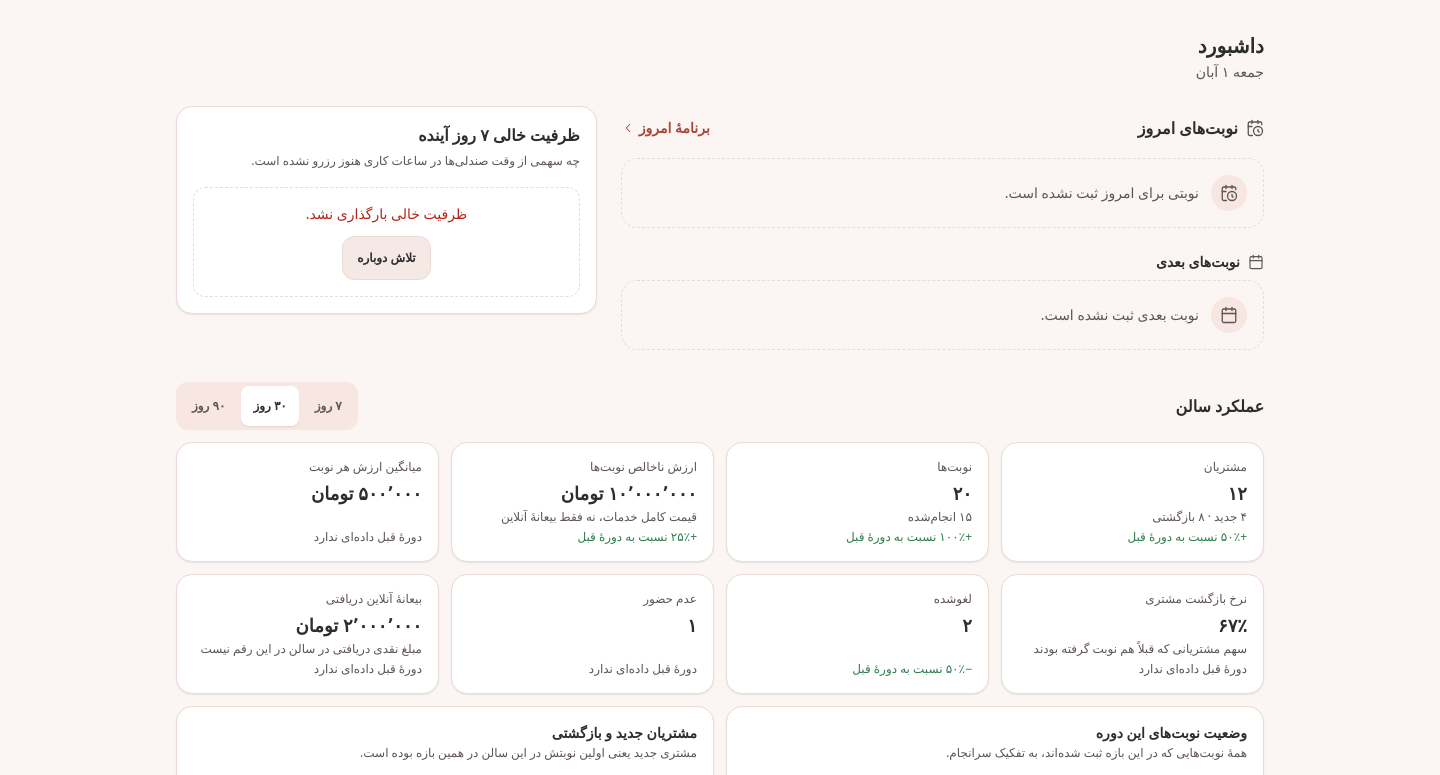
Test: DashboardView › keeps the rest of the dashboard working when capacity fails, and retries only capacity
The image size is (1440, 775).
Expected: the element with test id "metric-bookings" is shown, [726,442,989,562]
What coordinates should you click on to do the following:
click the button with test id "retry-capacity"
I would click on:
 (386, 258)
Its box is [342,236,431,280].
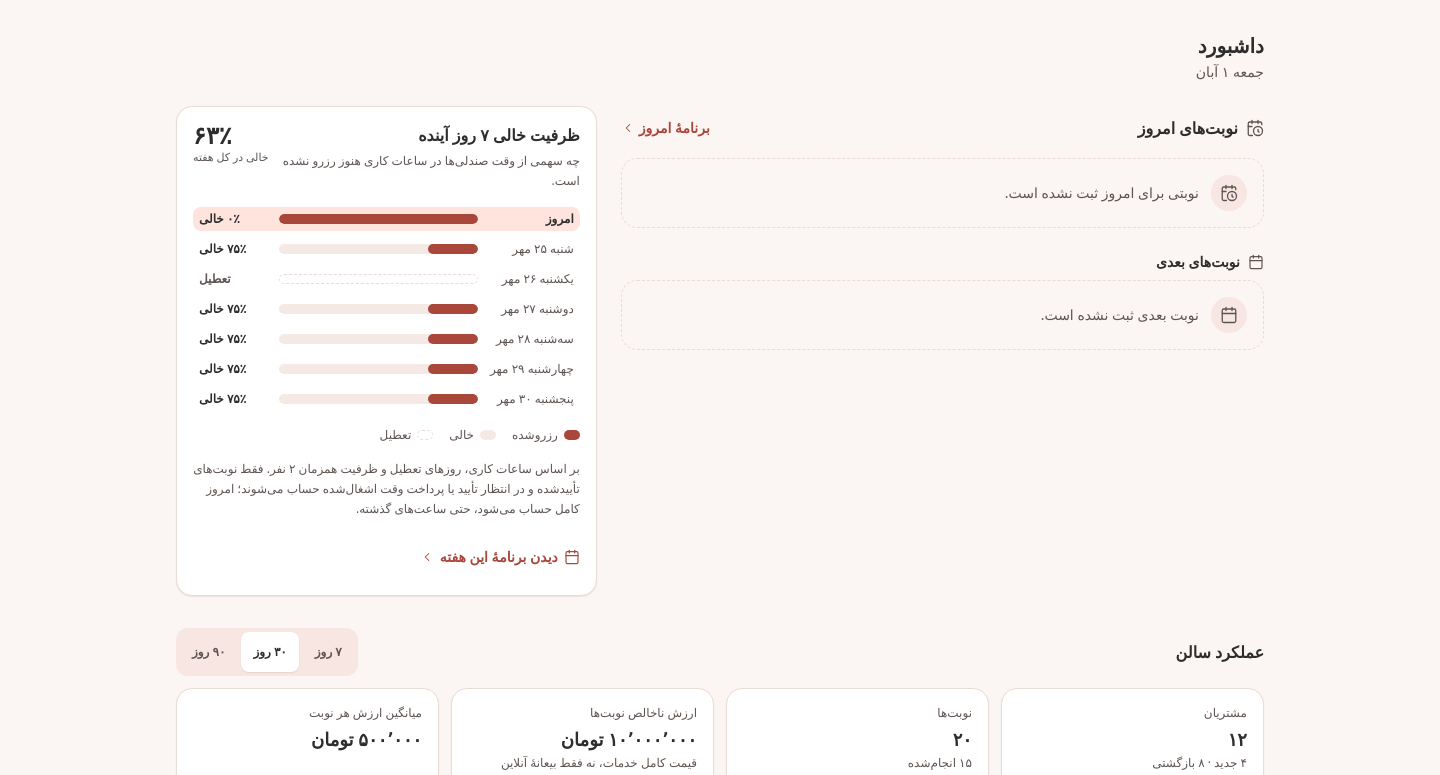
Result: the number of list items with test id "capacity-day" is 7
